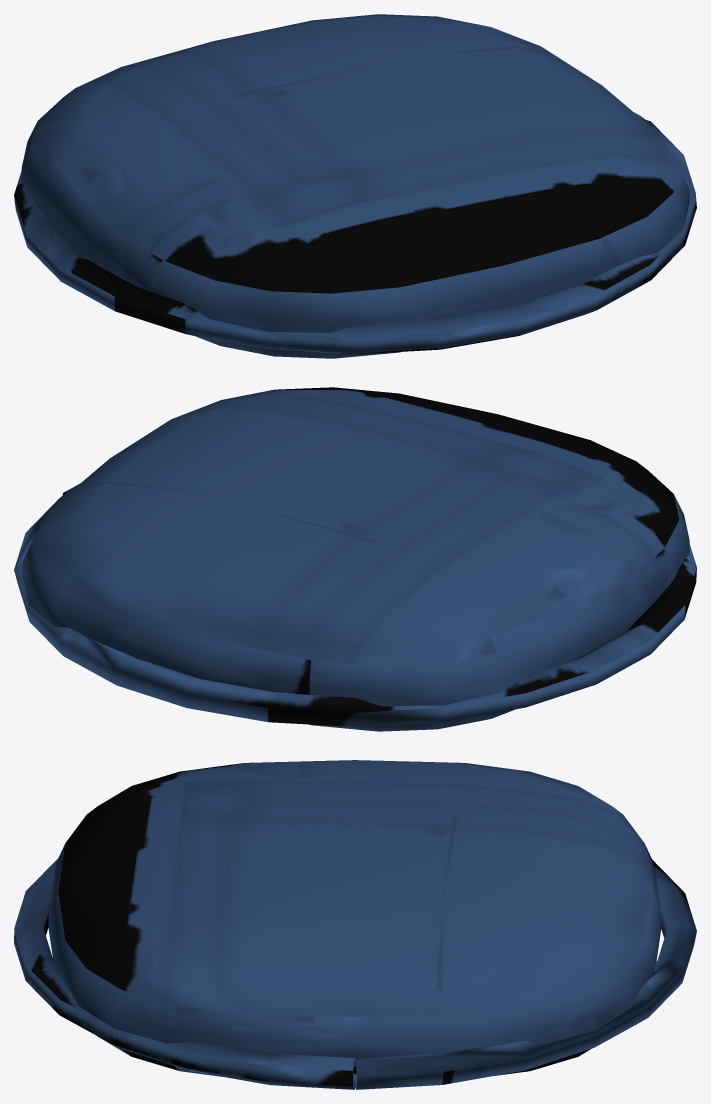
Rendered from Tano_RolloIzq.fbx.
3 renders of one model, top to bottom at view 1: azimuth 30°, elevation 25°; view 2: azimuth 150°, elevation 25°; view 3: azimuth 270°, elevation 25°, orthographic.
Visible parts, largest first — view 1: Tano_RolloIzq; view 2: Tano_RolloIzq; view 3: Tano_RolloIzq.
Boxes of the visible parts, x1=… form: Tano_RolloIzq: x1=14, y1=14, x2=696, y2=358; Tano_RolloIzq: x1=14, y1=387, x2=696, y2=731; Tano_RolloIzq: x1=14, y1=760, x2=696, y2=1089.
Size of the model in its own units: 1.5 by 0.3571 by 1.5.
